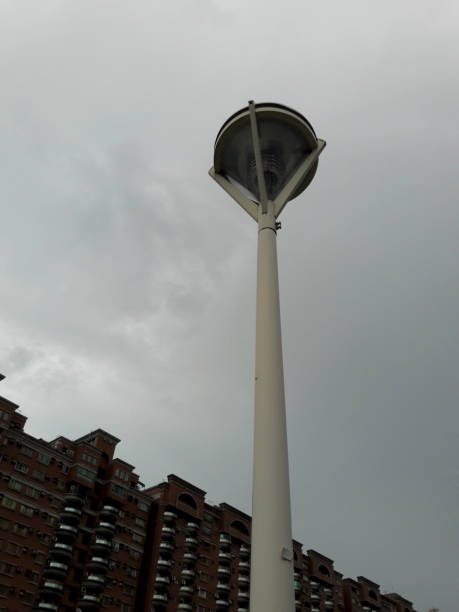light_pole: (246, 217, 298, 612)
